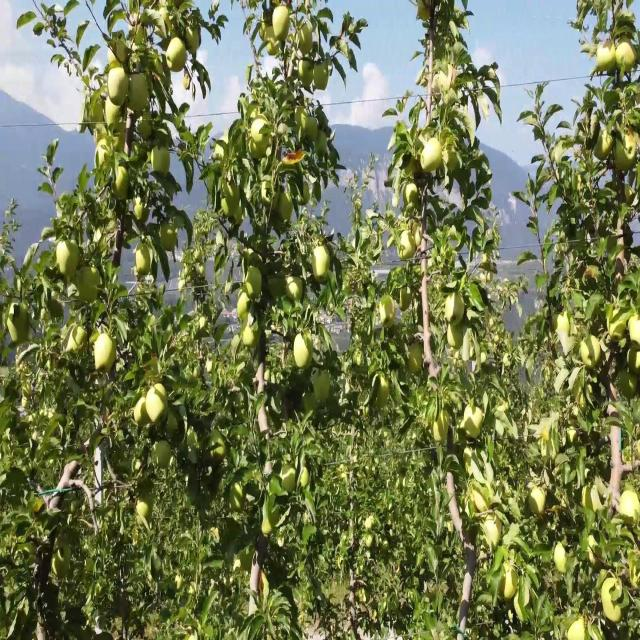apple: (56, 241, 81, 281), (248, 120, 270, 164), (148, 383, 169, 428), (604, 575, 623, 624), (96, 334, 117, 377), (616, 135, 640, 172), (296, 106, 320, 142), (128, 78, 151, 114), (620, 490, 640, 530), (80, 270, 101, 306), (464, 405, 484, 441), (108, 71, 129, 105), (596, 127, 615, 164), (296, 334, 315, 370), (272, 7, 291, 43), (312, 248, 331, 283), (500, 568, 519, 603), (12, 312, 31, 347), (616, 42, 636, 75), (96, 142, 115, 176), (168, 42, 188, 73), (152, 149, 172, 180), (448, 291, 466, 324), (112, 170, 131, 201), (276, 191, 295, 222), (476, 483, 495, 514), (620, 369, 640, 398), (424, 142, 441, 176), (108, 99, 125, 133), (244, 270, 263, 300), (224, 184, 240, 219), (448, 321, 467, 350), (600, 42, 616, 76), (280, 462, 297, 494), (604, 597, 624, 624), (108, 99, 124, 132), (608, 312, 626, 341), (300, 56, 314, 92), (304, 113, 320, 144), (584, 341, 601, 370), (160, 227, 178, 254), (300, 21, 314, 55), (136, 248, 152, 277), (288, 277, 304, 306), (156, 440, 172, 469), (400, 234, 416, 263), (408, 348, 424, 377), (528, 490, 545, 517), (268, 277, 287, 300), (316, 63, 331, 92), (132, 142, 148, 169), (116, 35, 129, 68), (156, 14, 173, 39), (628, 312, 640, 347), (296, 348, 315, 370), (136, 398, 149, 430), (316, 376, 332, 402), (136, 497, 152, 523), (188, 28, 202, 57), (212, 433, 227, 460), (92, 92, 105, 123), (568, 618, 587, 639), (436, 412, 449, 441), (412, 220, 425, 249), (629, 554, 640, 588), (72, 327, 88, 350), (272, 213, 288, 235), (140, 113, 152, 142), (240, 291, 251, 322), (244, 327, 260, 348), (156, 127, 172, 148), (168, 412, 181, 437), (628, 348, 640, 375), (408, 184, 420, 210), (376, 376, 392, 395), (136, 199, 149, 222), (556, 547, 567, 574), (260, 21, 273, 43), (244, 248, 259, 267), (304, 391, 316, 414), (52, 298, 64, 320), (260, 21, 272, 43), (112, 14, 128, 30), (448, 149, 459, 172), (316, 135, 328, 156), (376, 391, 390, 409), (300, 469, 311, 491), (380, 383, 391, 405), (108, 49, 119, 71), (300, 184, 311, 206), (400, 291, 412, 311), (384, 312, 396, 331), (96, 127, 109, 144), (384, 298, 395, 318), (116, 135, 127, 155), (568, 426, 578, 448), (584, 490, 593, 512), (224, 200, 234, 219), (268, 42, 280, 57), (184, 71, 192, 92), (236, 483, 245, 501), (92, 327, 100, 347), (416, 305, 424, 325), (628, 184, 635, 206), (264, 519, 273, 535), (452, 71, 459, 91), (224, 284, 234, 295), (368, 533, 375, 548), (356, 355, 364, 368), (637, 46, 640, 64)
